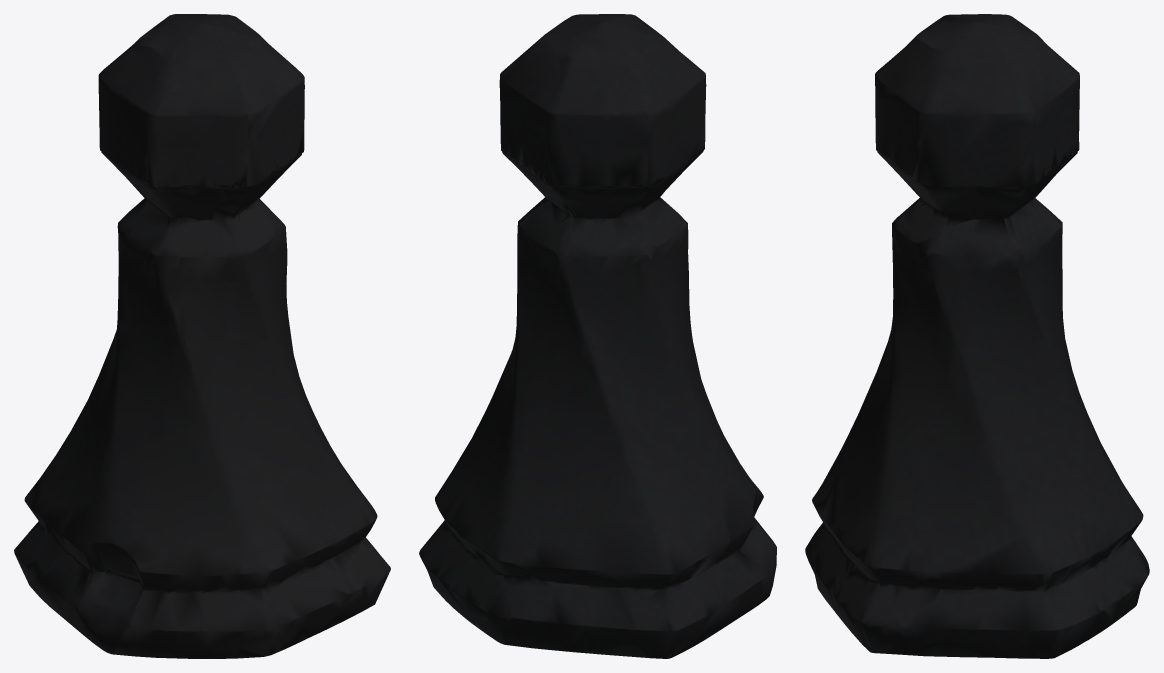
Rendered from pawn-black.glb.
The picture shows the model from 3 angles, left to right: view 1: azimuth 30°, elevation 25°; view 2: azimuth 150°, elevation 25°; view 3: azimuth 270°, elevation 25°; orthographic projection.
Bounding box in the file's own units: 0.5018 × 0.95 × 0.5175.
1 material, 1 textured.
